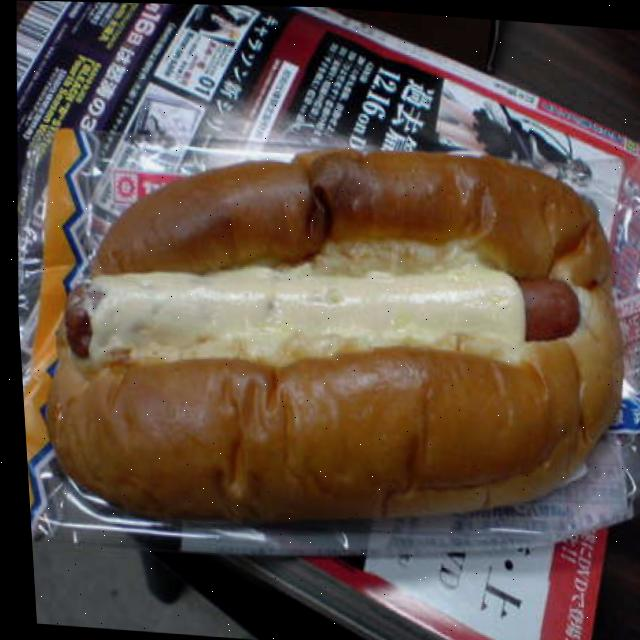三明治: (15, 109, 635, 552)
